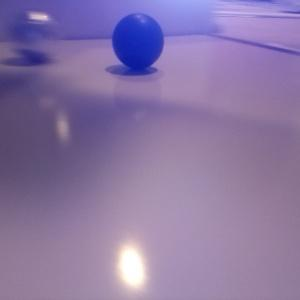alive_ball: (9, 9, 62, 62)
dead_ball: (111, 12, 164, 69)
